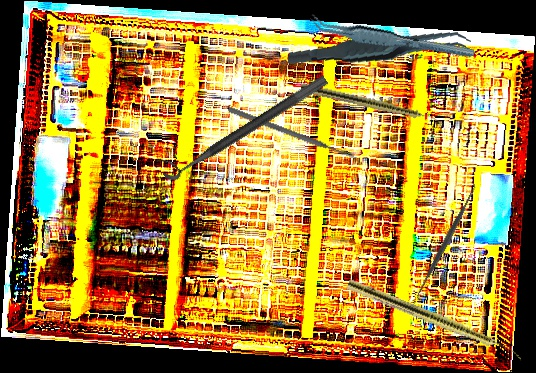Fixation Ring: (154, 61, 330, 185)
Handpiece: (345, 277, 527, 363), (299, 82, 446, 127)
Pusher: (227, 105, 359, 163)
Spatula Surgical: (408, 181, 484, 304)
Tissue Forceps: (287, 11, 472, 87), (307, 0, 476, 77)
